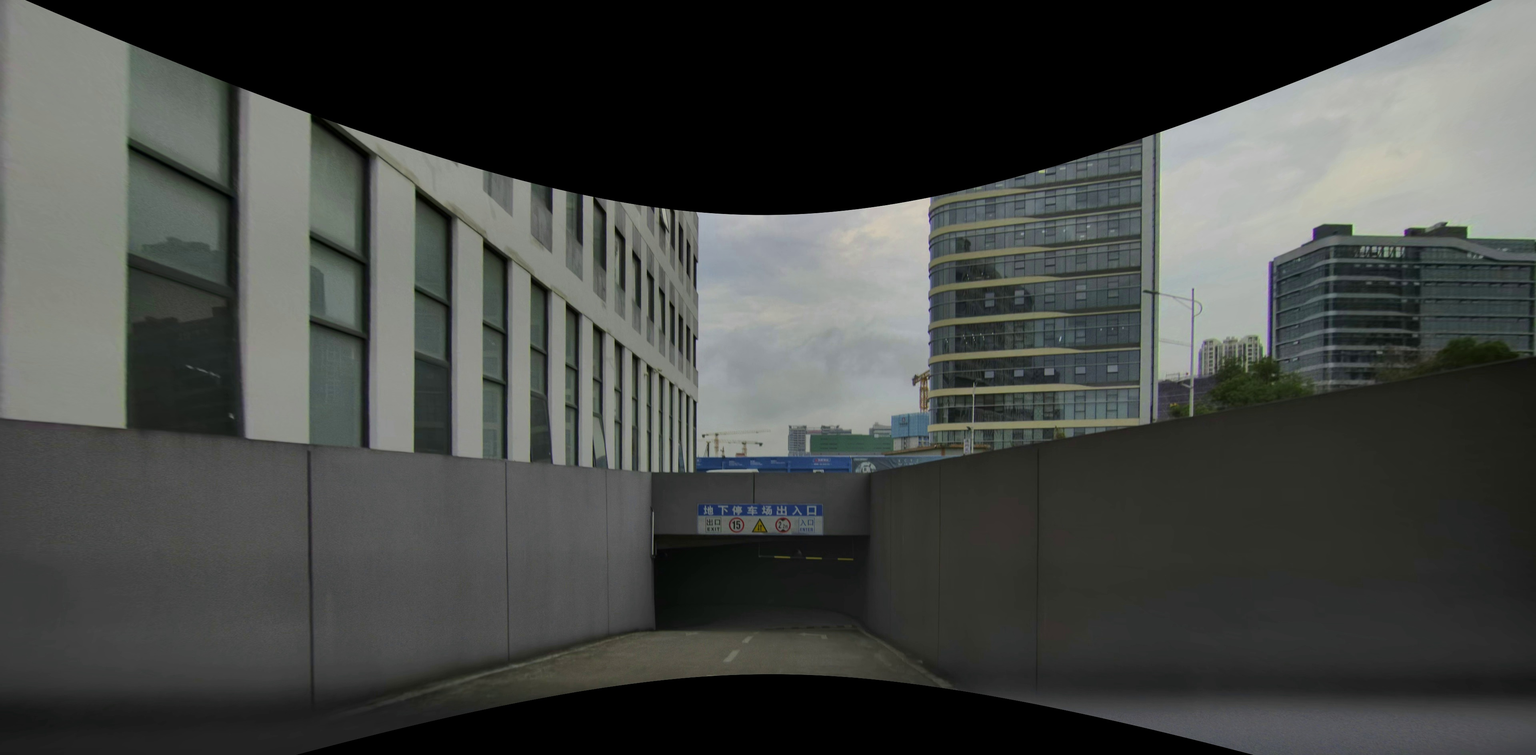15: (730, 520, 742, 531)
2.2m: (776, 521, 789, 530)
ENTER: (799, 526, 814, 532)
EXIT: (706, 526, 720, 532)
入口: (799, 517, 814, 533), (800, 519, 813, 525)
出口: (705, 516, 721, 533), (706, 518, 720, 525)
地下停车场出入口: (698, 504, 822, 515)
左: (793, 629, 831, 644)
